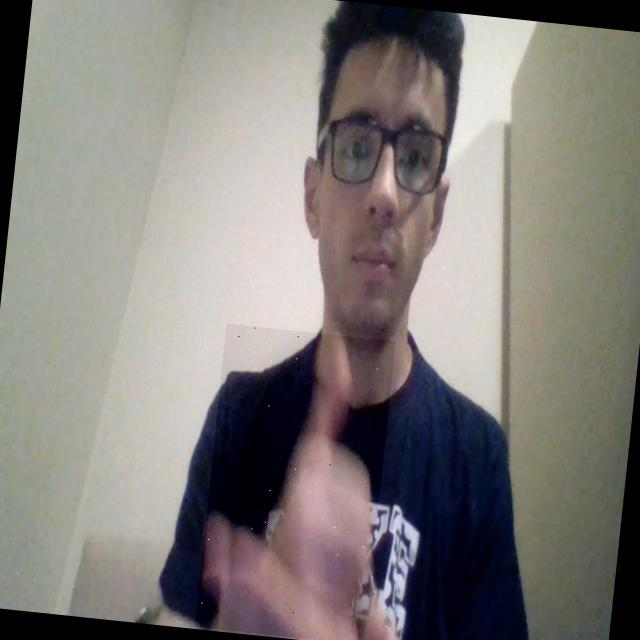help: (194, 323, 395, 640)
